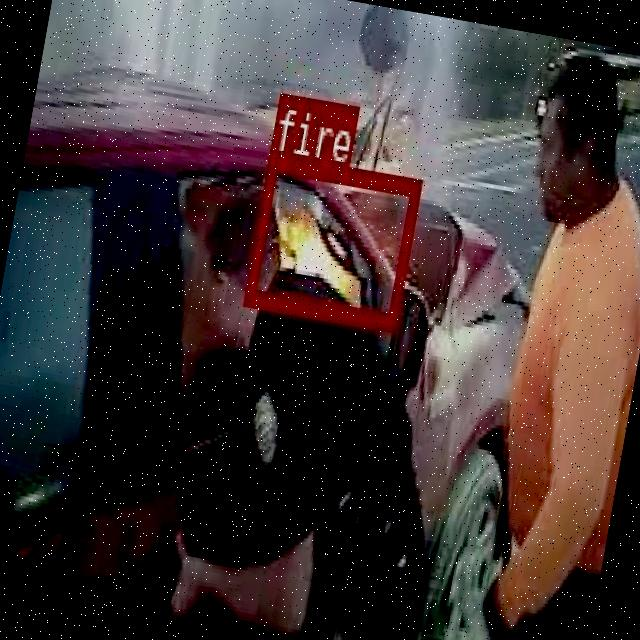fire: (242, 150, 421, 328)
